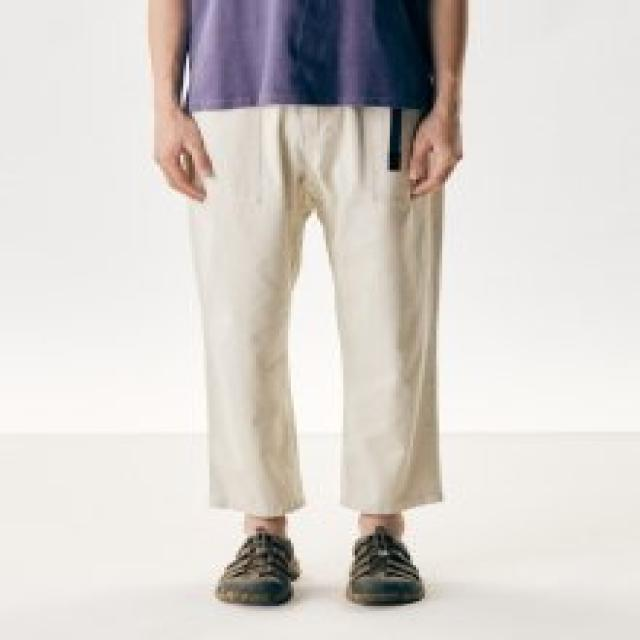long-pants: (177, 101, 446, 518)
